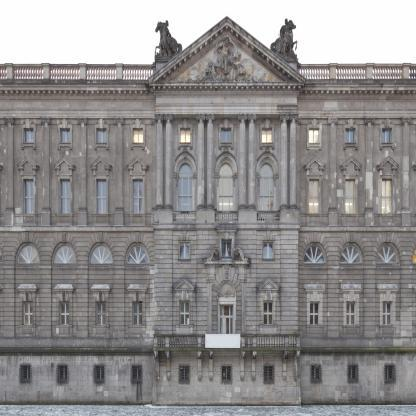Balcony: (0, 63, 416, 95), (154, 335, 300, 346)
Building Outline: (0, 15, 416, 408)
Cornice: (148, 16, 306, 85), (256, 145, 279, 175), (174, 145, 197, 175), (215, 145, 238, 175), (16, 155, 40, 176), (339, 155, 363, 176), (53, 155, 76, 176), (126, 155, 149, 176), (90, 155, 113, 176), (303, 155, 326, 176), (376, 155, 399, 175), (217, 280, 236, 297), (173, 277, 195, 290), (258, 277, 280, 290), (377, 284, 399, 292), (341, 284, 363, 292), (53, 284, 75, 292), (305, 284, 326, 292), (126, 284, 147, 292), (16, 284, 39, 291), (90, 284, 111, 291)
Deco: (165, 34, 287, 82), (154, 20, 183, 59), (270, 18, 297, 59), (224, 264, 229, 281)
Door: (220, 316, 233, 347)
Facade: (0, 84, 416, 406)
Floor: (0, 231, 416, 351)
Floor Slab: (0, 347, 416, 352), (0, 226, 416, 231), (0, 90, 416, 95)
Ground Floor: (0, 351, 416, 406)
Molding: (0, 85, 416, 102)
Pillar: (3, 117, 15, 226), (40, 117, 51, 226), (150, 117, 161, 226), (292, 117, 303, 226), (365, 117, 376, 226), (401, 117, 412, 226), (328, 117, 339, 226), (77, 117, 88, 225), (114, 117, 124, 226), (154, 113, 164, 209), (205, 113, 215, 209), (196, 113, 206, 209), (238, 113, 248, 209), (247, 113, 257, 209), (289, 113, 299, 209), (164, 113, 173, 209), (280, 113, 289, 209)
Sill: (18, 325, 37, 328), (175, 325, 194, 328), (259, 325, 278, 328), (55, 325, 73, 328), (92, 325, 110, 328), (128, 325, 146, 328), (306, 325, 324, 328), (343, 325, 361, 328), (379, 325, 397, 328), (56, 213, 73, 216), (306, 213, 323, 216), (342, 213, 359, 216), (19, 214, 36, 216), (92, 214, 109, 216), (129, 214, 146, 216), (379, 214, 396, 216), (381, 142, 393, 144), (59, 143, 71, 145), (132, 143, 144, 145), (179, 142, 191, 144), (220, 142, 232, 144), (261, 142, 273, 144), (308, 143, 320, 145), (23, 142, 34, 144), (96, 143, 107, 145), (345, 143, 356, 145)
Top Floor: (0, 95, 416, 231)
Window: (260, 162, 274, 213), (178, 162, 192, 213), (219, 162, 233, 213), (376, 243, 399, 264), (17, 244, 40, 264), (126, 244, 149, 264), (303, 244, 326, 264), (339, 244, 362, 264), (53, 245, 76, 264), (90, 245, 112, 264), (24, 179, 34, 213), (382, 179, 392, 213), (346, 179, 356, 213), (309, 179, 319, 213), (133, 179, 143, 213), (96, 179, 106, 213), (60, 179, 70, 213), (24, 302, 33, 325), (60, 302, 69, 325), (97, 302, 106, 325), (133, 302, 142, 325), (264, 302, 273, 325), (383, 302, 392, 325), (310, 302, 319, 325), (347, 302, 356, 325), (180, 302, 189, 325), (263, 242, 273, 259), (180, 242, 189, 259), (222, 240, 231, 257), (382, 128, 392, 143), (309, 128, 319, 143), (346, 128, 356, 143), (24, 128, 34, 142), (60, 128, 70, 142), (97, 128, 107, 142), (133, 128, 143, 142), (221, 128, 231, 142), (262, 128, 272, 142), (180, 128, 190, 142), (220, 305, 233, 315), (21, 366, 30, 380), (264, 367, 273, 381), (222, 366, 231, 380), (180, 366, 189, 380), (132, 366, 141, 380), (95, 366, 104, 380), (58, 366, 67, 380), (385, 366, 393, 379), (312, 366, 320, 379), (349, 366, 356, 379)
